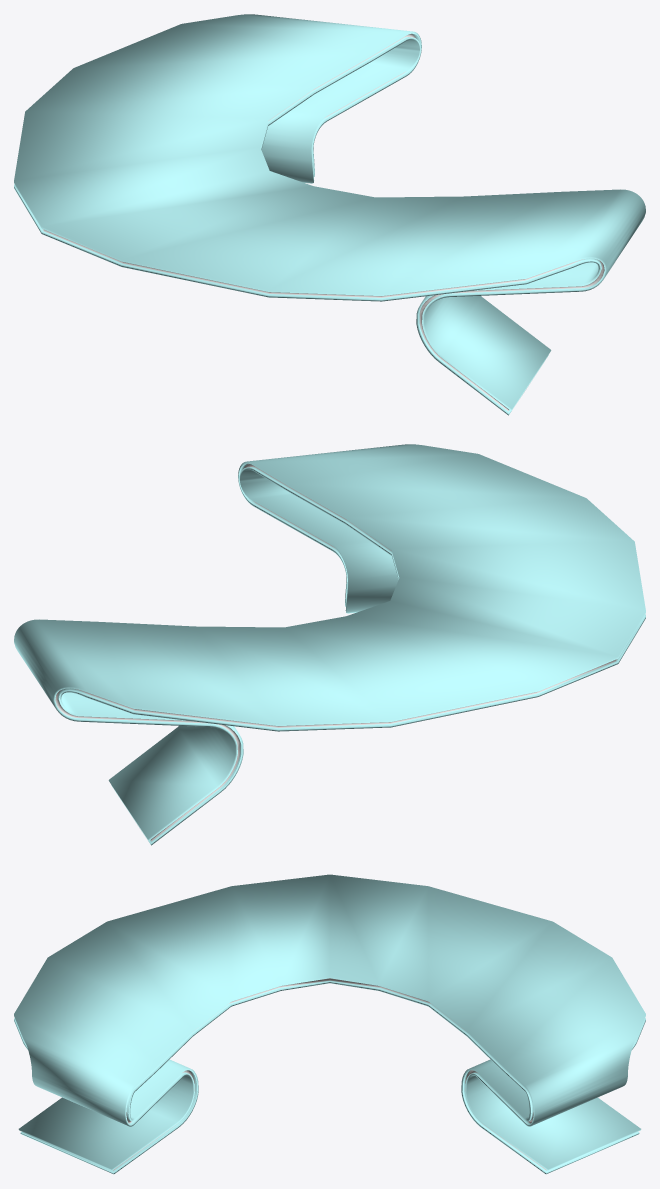
The model's file is NEW table.fbx.
3 views of the same model, one above another, from view 1: azimuth 30°, elevation 25°; view 2: azimuth 150°, elevation 25°; view 3: azimuth 270°, elevation 25° (orthographic). The views are drawn at different scales.
Visible parts, largest first — view 1: Plane; view 2: Plane; view 3: Plane.
Boxes of the visible parts, box(x1,y1,x2,y2) form: Plane: box(14, 14, 645, 415); Plane: box(14, 444, 645, 845); Plane: box(14, 874, 645, 1174).
Size of the model in its own units: 547 by 147 by 664.
